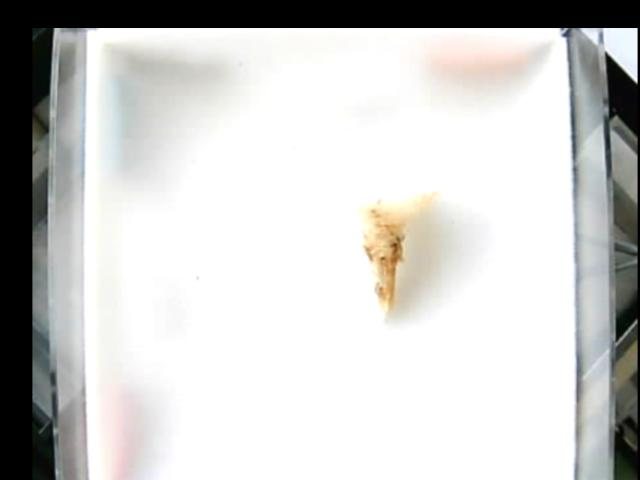Mooli: (342, 182, 438, 319)
